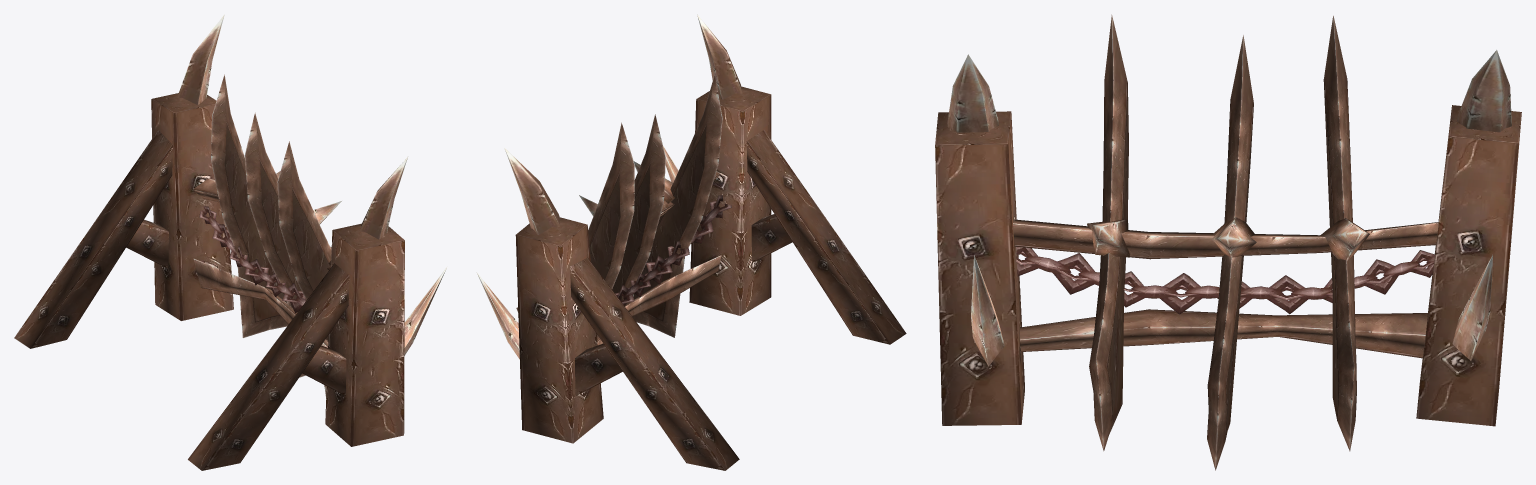
3 renders of one model, left to right at view 1: azimuth 30°, elevation 25°; view 2: azimuth 150°, elevation 25°; view 3: azimuth 270°, elevation 25°, orthographic. The views are drawn at different scales.
Size of the model in its own units: 4.85 by 5.05 by 6.63.
2 materials, 2 textured.
